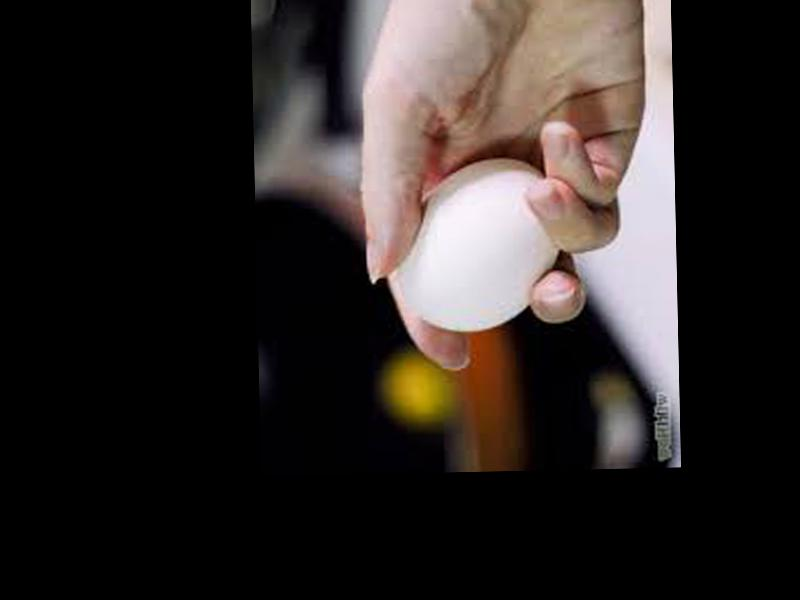Eggs: (396, 158, 559, 335)
